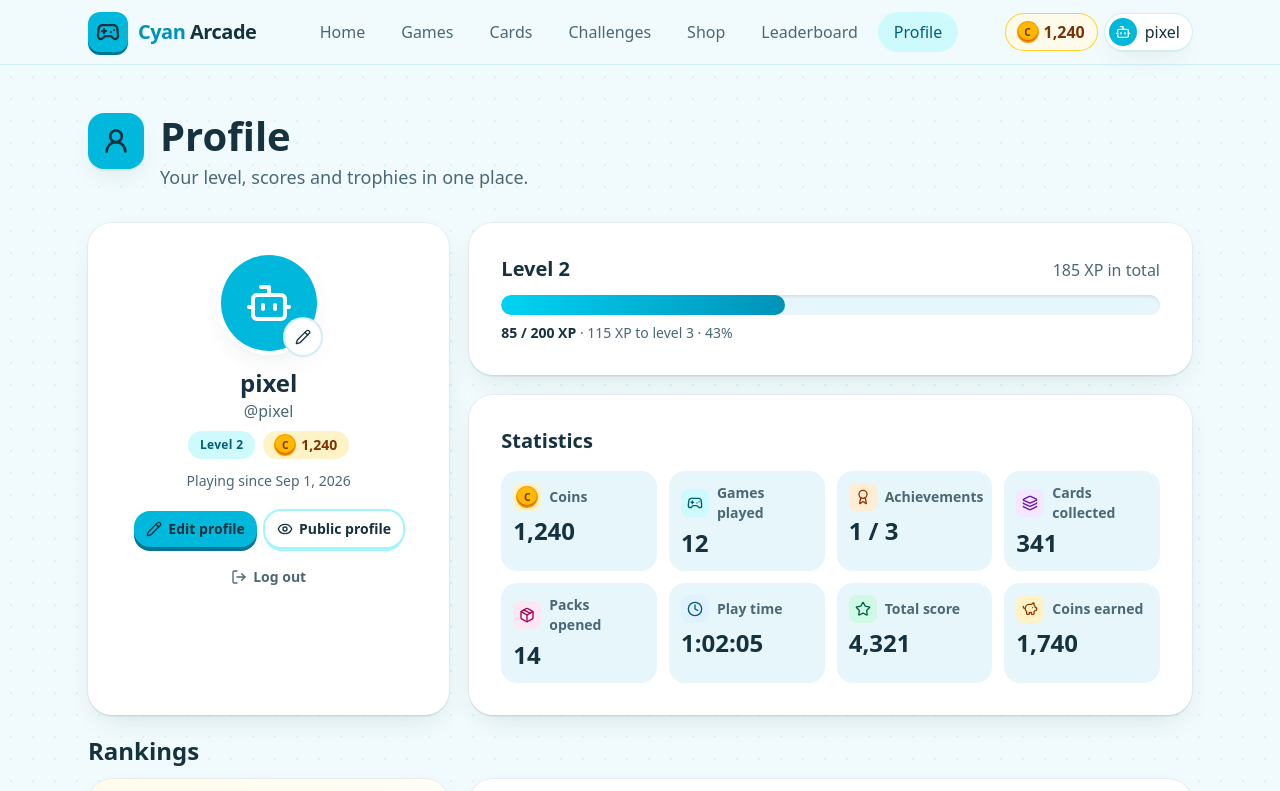
Test case: profile page when signed in › logs out and returns to the guest view
Click the button "Log out" at (269, 577), box top-left (219, 559), bottom-right (318, 595)
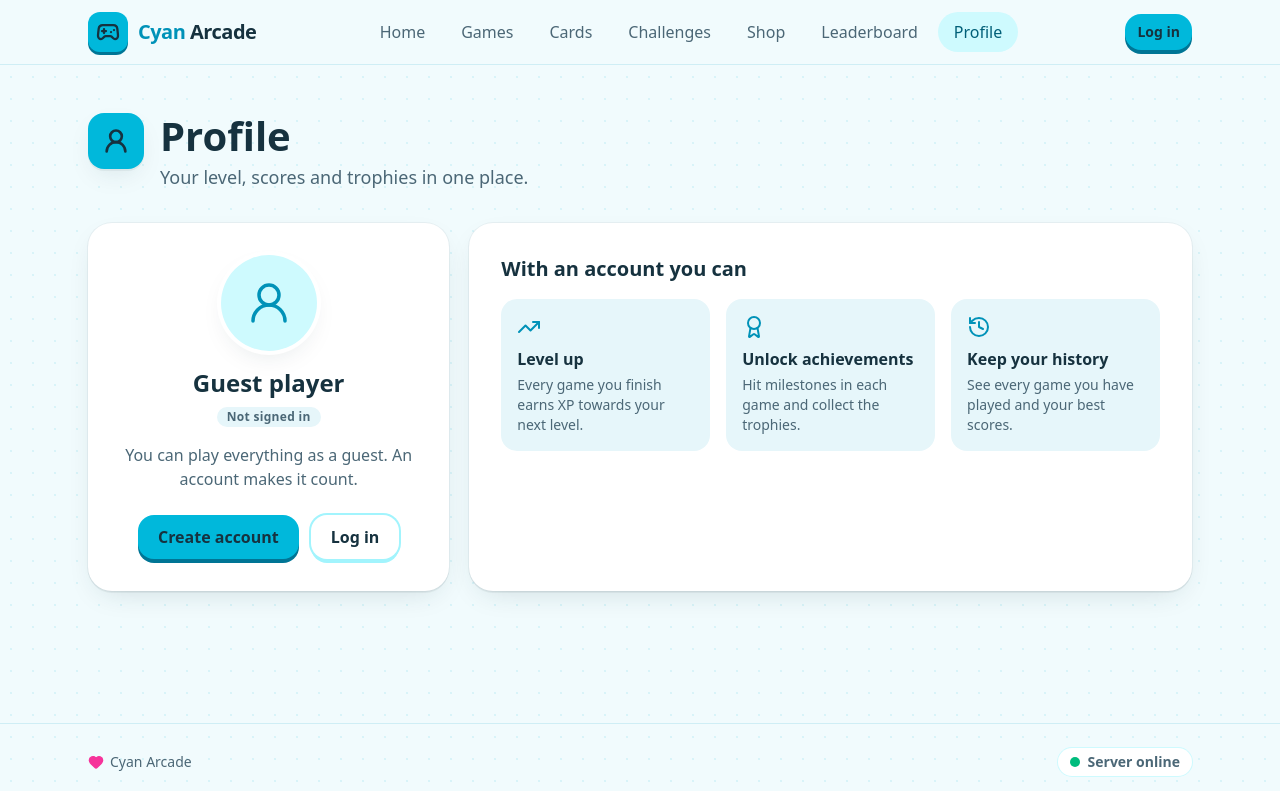
Result: the heading "Guest player" is shown at top-left (193, 367), bottom-right (344, 399)
Result: the link "pixel" is gone
Result: the link "Log in" in the row of "Leaderboard" is shown at top-left (1126, 14), bottom-right (1192, 50)
